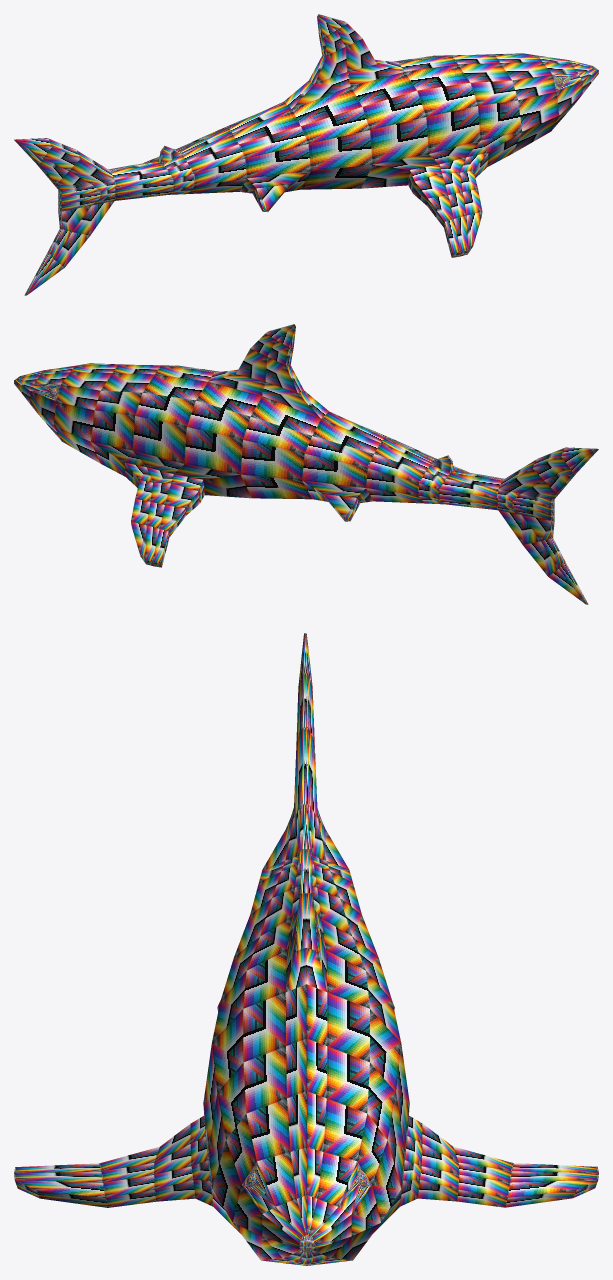
File: shark.glb
The picture shows the model from 3 angles, top to bottom: view 1: azimuth 30°, elevation 25°; view 2: azimuth 150°, elevation 25°; view 3: azimuth 270°, elevation 25°; orthographic projection. The views are drawn at different scales.
Parts seen in each view (by area): view 1: Object_6; view 2: Object_6; view 3: Object_6.
Part boxes in pixels (x1,y1,x2,y2): Object_6: [14, 14, 598, 295]; Object_6: [14, 324, 598, 604]; Object_6: [14, 633, 598, 1265].
Bounding box in the file's own units: 13.1 × 4.5 × 6.63.
Materials: 1 (1 with a texture image).
